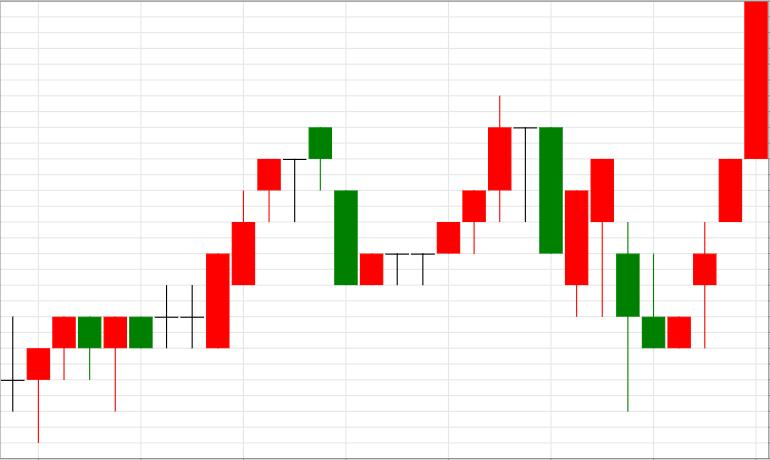evening_star_fall: (360, 94, 563, 286)
hanging_man_fall: (2, 316, 127, 444)
